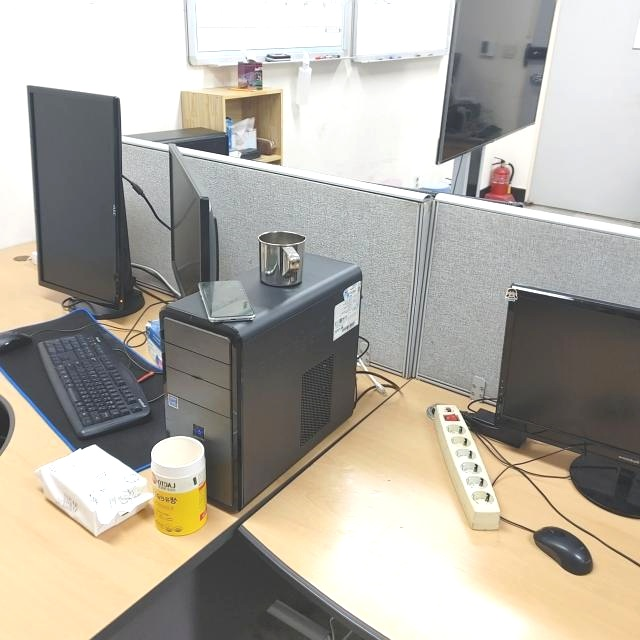cup: (258, 227, 308, 289)
phone: (198, 275, 257, 325)
